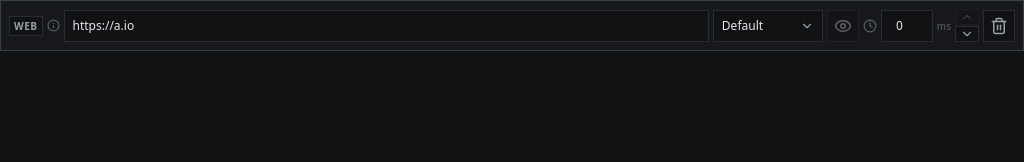
Test case: ItemEditor (website) › renders the WEB badge with a url input and browser select
Expected: the text "WEB" is shown, [9,16,42,36]
Expected: the field showing "https://a.io" is shown, [64,10,709,42]
Click the button with class "custom-select-trigger". click: (768, 26)
box: [713,10,823,42]
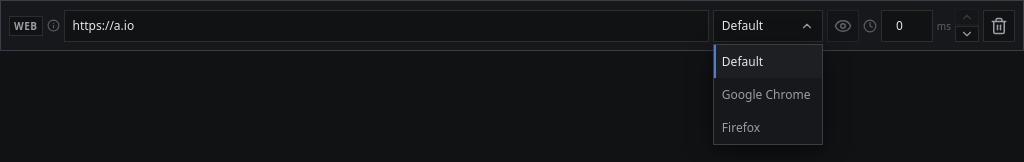
Expected: the option "Google Chrome" is shown, [722,86,810,102]
Expected: the option "Firefox" is shown, [722,118,760,136]
